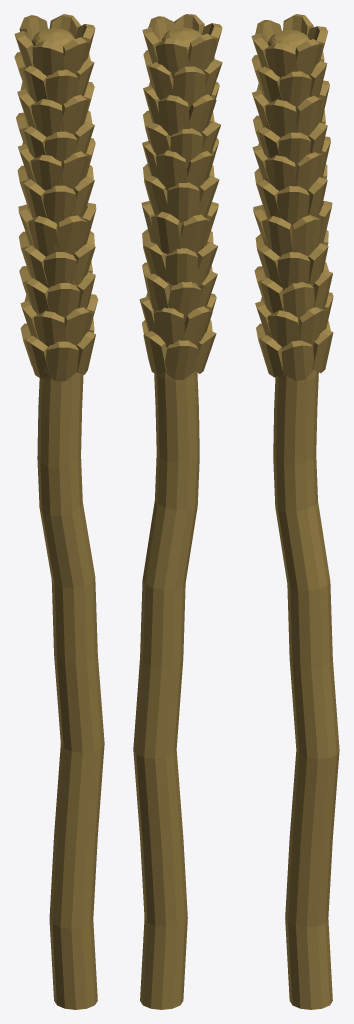
The model's file is colosblend.fbx.
3 views of the same model, side by side, from view 1: azimuth 30°, elevation 25°; view 2: azimuth 210°, elevation 25°; view 3: azimuth 330°, elevation 25° (orthographic).
Parts seen in each view (by area): view 1: Куб.008; view 2: Куб.008; view 3: Куб.008.
Boxes of the visible parts, bbox=[...] form: Куб.008: bbox=[14, 14, 104, 1009]; Куб.008: bbox=[133, 14, 222, 1009]; Куб.008: bbox=[251, 14, 339, 1009].
Size of the model in its own units: 28.32 by 322 by 24.43.
